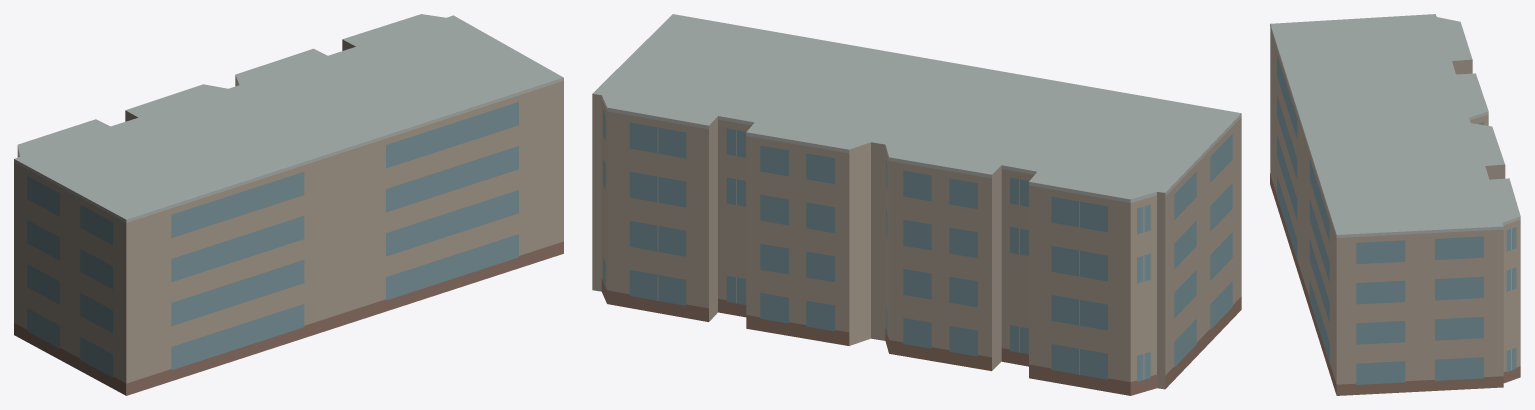
Rendered from survey-upis-32838861.glb.
3 views of the same model, side by side, from view 1: azimuth 30°, elevation 25°; view 2: azimuth 150°, elevation 25°; view 3: azimuth 270°, elevation 25° (orthographic). The views are drawn at different scales.
Parts seen in each view (by area): view 1: survey-upis-32838861.tmp; view 2: survey-upis-32838861.tmp; view 3: survey-upis-32838861.tmp.
Boxes of the visible parts, <box> form: survey-upis-32838861.tmp: <box>14,14,563,395</box>; survey-upis-32838861.tmp: <box>592,14,1241,395</box>; survey-upis-32838861.tmp: <box>1270,14,1520,395</box>.
Size of the model in its own units: 38.58 by 13.1 by 18.49.
